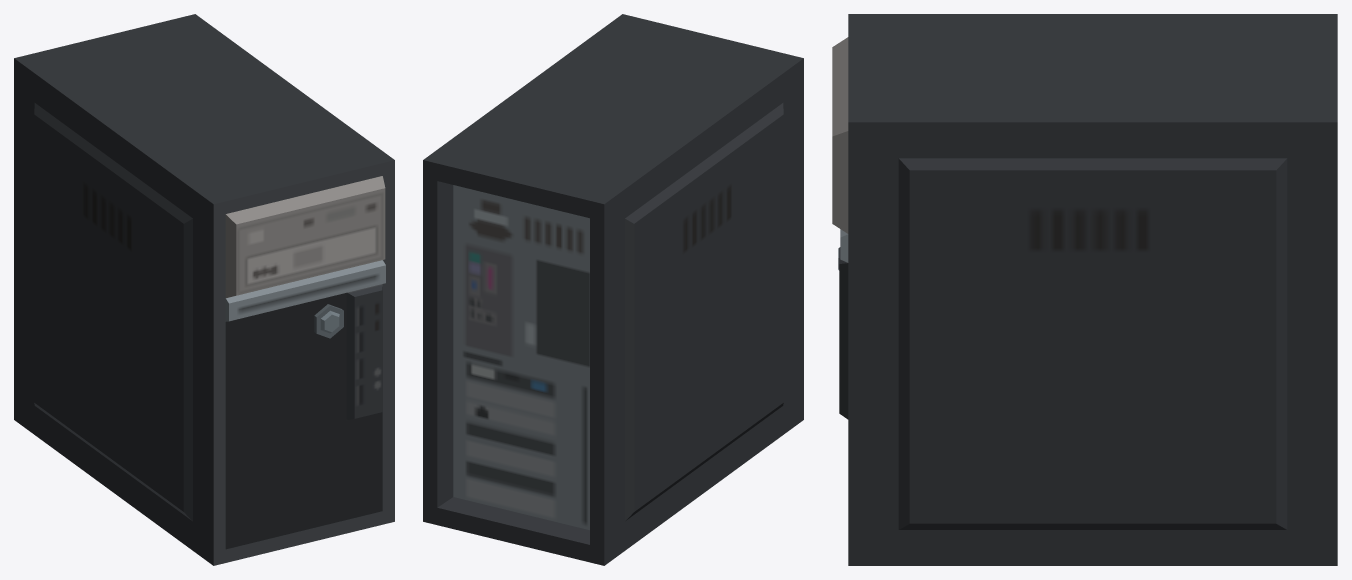
File: SM_Prop_Computer_01.fbx
3 views of the same model, side by side, from view 1: azimuth 30°, elevation 25°; view 2: azimuth 150°, elevation 25°; view 3: azimuth 270°, elevation 25° (orthographic). The views are drawn at different scales.
Parts seen in each view (by area): view 1: SM_Prop_Computer_01; view 2: SM_Prop_Computer_01; view 3: SM_Prop_Computer_01.
Part boxes in pixels (bbox=[...]): SM_Prop_Computer_01: bbox=[14, 14, 394, 565]; SM_Prop_Computer_01: bbox=[423, 14, 803, 565]; SM_Prop_Computer_01: bbox=[832, 14, 1337, 565].
Bounding box in the file's own units: 30.23 × 54.75 × 56.55.
